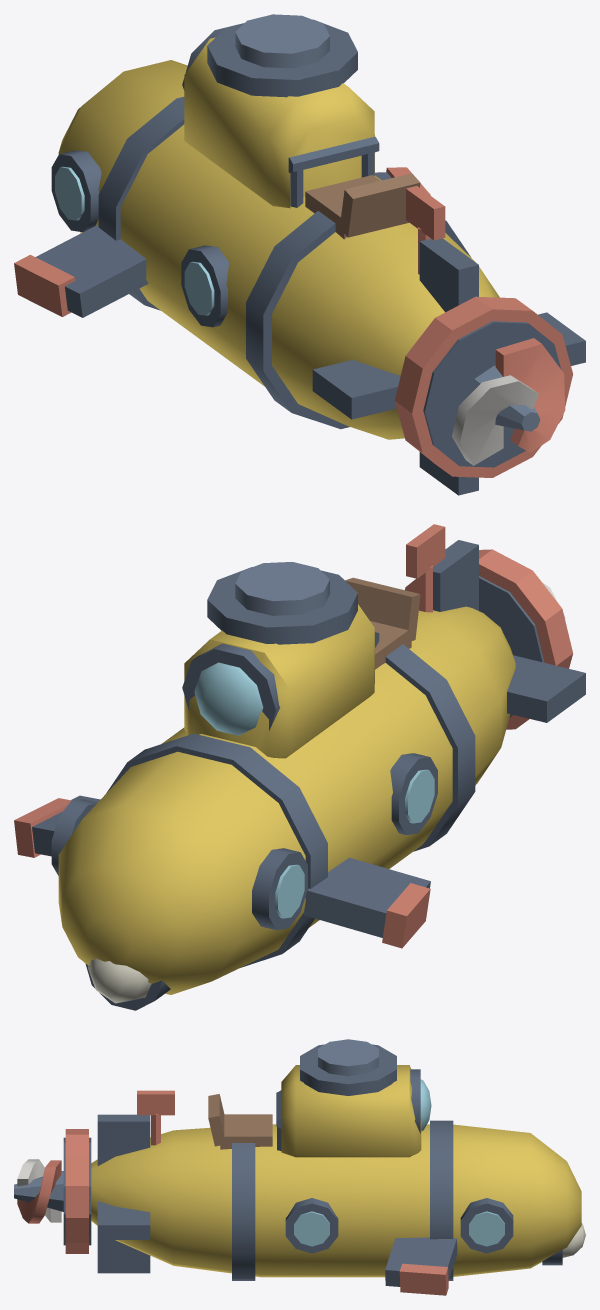
File: Bathtub.glb
3 renders of one model, top to bottom at view 1: azimuth 30°, elevation 25°; view 2: azimuth 150°, elevation 25°; view 3: azimuth 270°, elevation 25°, orthographic. The views are drawn at different scales.
Parts seen in each view (by area): view 1: Hull, Prop, Seat, Hull_Glow; view 2: Hull, Hull_Glow, Seat, Light; view 3: Hull, Prop, Seat, Hull_Glow, Light.
Boxes of the visible parts, <box> form: Hull: <box>14,14,585,495</box>; Prop: <box>452,338,565,465</box>; Seat: <box>288,136,420,239</box>; Hull_Glow: <box>55,166,214,315</box>; Hull: <box>14,524,585,1010</box>; Hull_Glow: <box>194,662,434,918</box>; Seat: <box>345,577,420,669</box>; Light: <box>88,958,151,1003</box>; Hull: <box>63,1039,581,1295</box>; Prop: <box>14,1159,63,1223</box>; Seat: <box>208,1090,282,1150</box>; Hull_Glow: <box>294,1079,504,1246</box>; Light: <box>562,1223,585,1257</box>.
Bounding box in the file's own units: 20.96 × 16.56 × 39.25.
